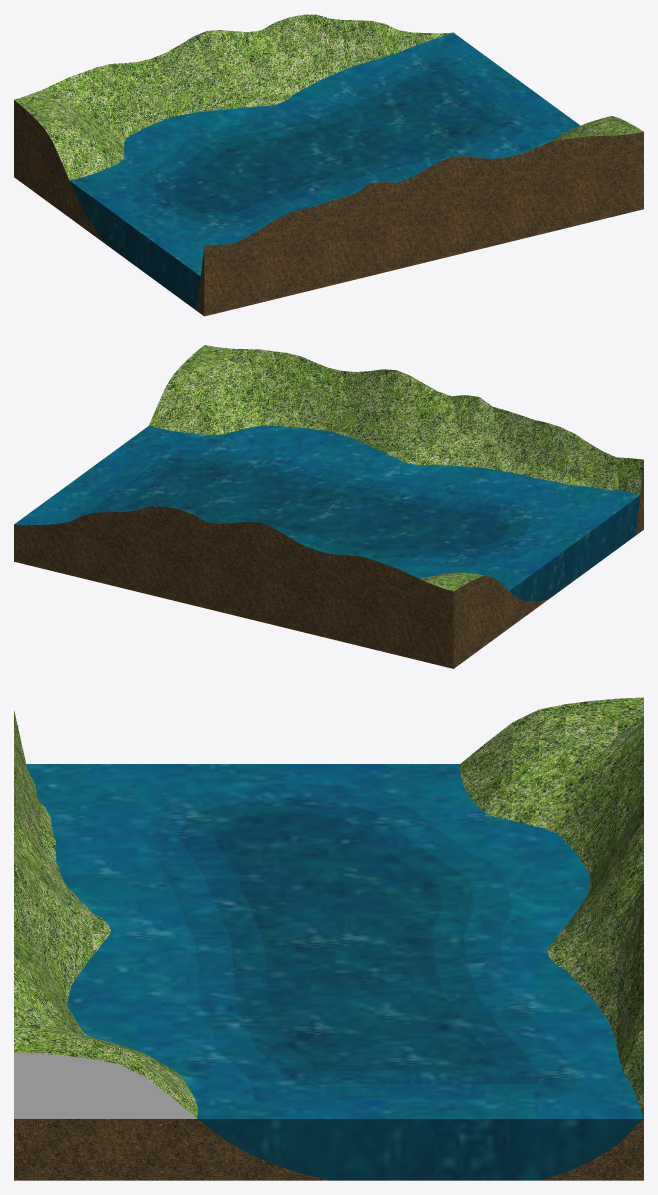
Rendered from river-straight.glb.
3 renders of one model, top to bottom at view 1: azimuth 30°, elevation 25°; view 2: azimuth 150°, elevation 25°; view 3: azimuth 270°, elevation 25°, orthographic. The views are drawn at different scales.
Parts seen in each view (by area): view 1: _(Loose Entity); view 2: _(Loose Entity); view 3: _(Loose Entity).
Part boxes in pixels (left/top/right/bottom): _(Loose Entity): left=14, top=14, right=643, bottom=316; _(Loose Entity): left=14, top=345, right=643, bottom=668; _(Loose Entity): left=14, top=697, right=643, bottom=1180.
Bounding box in the file's own units: 3.22 × 0.6937 × 2.41.
9 materials, 8 textured.
